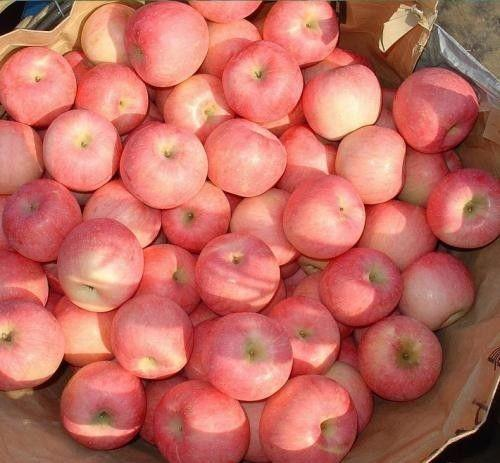apple: (258, 372, 355, 460), (59, 217, 144, 314), (118, 120, 207, 210), (59, 360, 144, 452), (202, 311, 289, 399), (390, 65, 476, 153), (356, 317, 443, 403), (280, 171, 366, 258), (152, 384, 248, 461), (221, 39, 305, 122), (125, 1, 209, 84), (301, 57, 385, 140), (202, 116, 286, 199), (194, 230, 278, 312), (109, 295, 193, 377), (43, 108, 124, 193), (318, 248, 399, 324), (4, 178, 79, 260), (1, 45, 76, 127), (426, 169, 500, 250), (399, 250, 473, 327), (1, 301, 66, 387), (335, 124, 406, 202), (260, 1, 338, 68), (72, 65, 147, 129), (361, 206, 435, 270)
